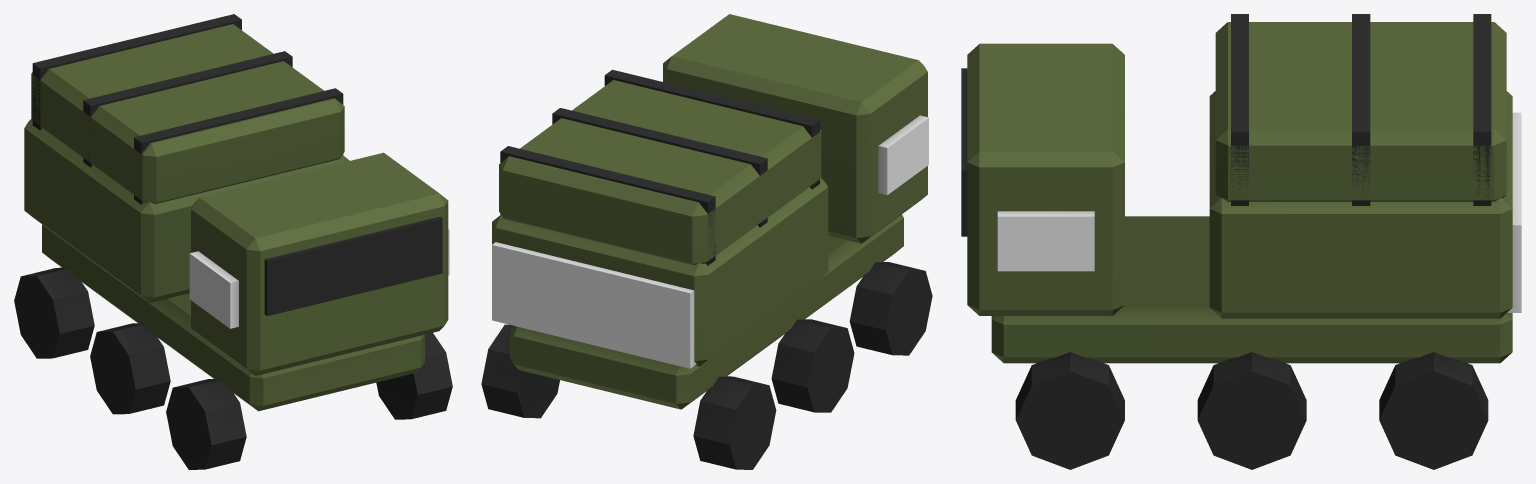
Rendered from ua-supply-truck.glb.
3 renders of one model, left to right at view 1: azimuth 30°, elevation 25°; view 2: azimuth 150°, elevation 25°; view 3: azimuth 270°, elevation 25°, orthographic. The views are drawn at different scales.
Parts seen in each view (by area): view 1: ua-supply-truck; view 2: ua-supply-truck; view 3: ua-supply-truck.
Boxes of the visible parts, x1,y1,x2,y2 form: ua-supply-truck: (14, 14, 452, 469); ua-supply-truck: (481, 14, 932, 469); ua-supply-truck: (961, 14, 1521, 469).
Bounding box in the file's own units: 0.55 × 0.595 × 0.925.
